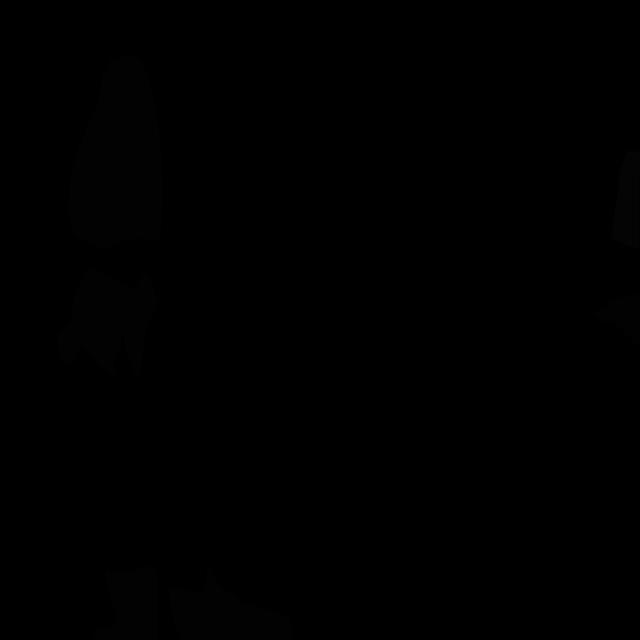cardboard: (68, 55, 163, 251), (57, 265, 161, 380), (168, 565, 293, 640), (92, 566, 158, 640), (590, 294, 640, 348)
soft_plastic: (611, 150, 640, 250)
